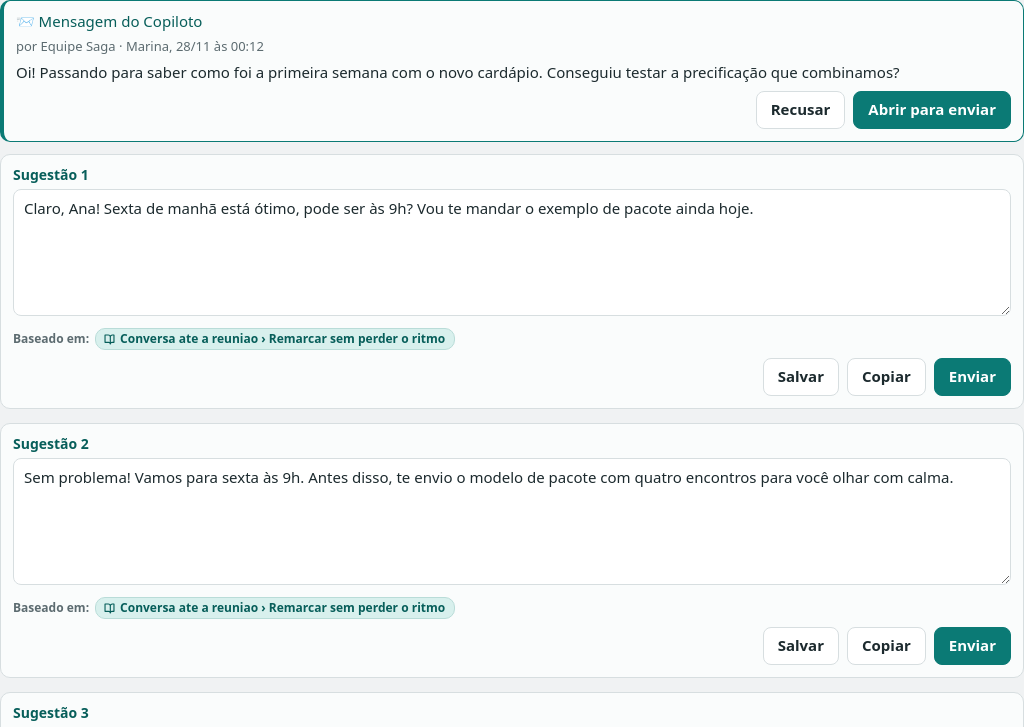
Test: Follow-up do Copiloto (v0.7.0) › fora dos 30 dias: "Abrir para enviar" mostra o motivo e não abre a caixa
Click the button "Abrir para enviar".
click(932, 110)  # box [853, 91, 1011, 129]
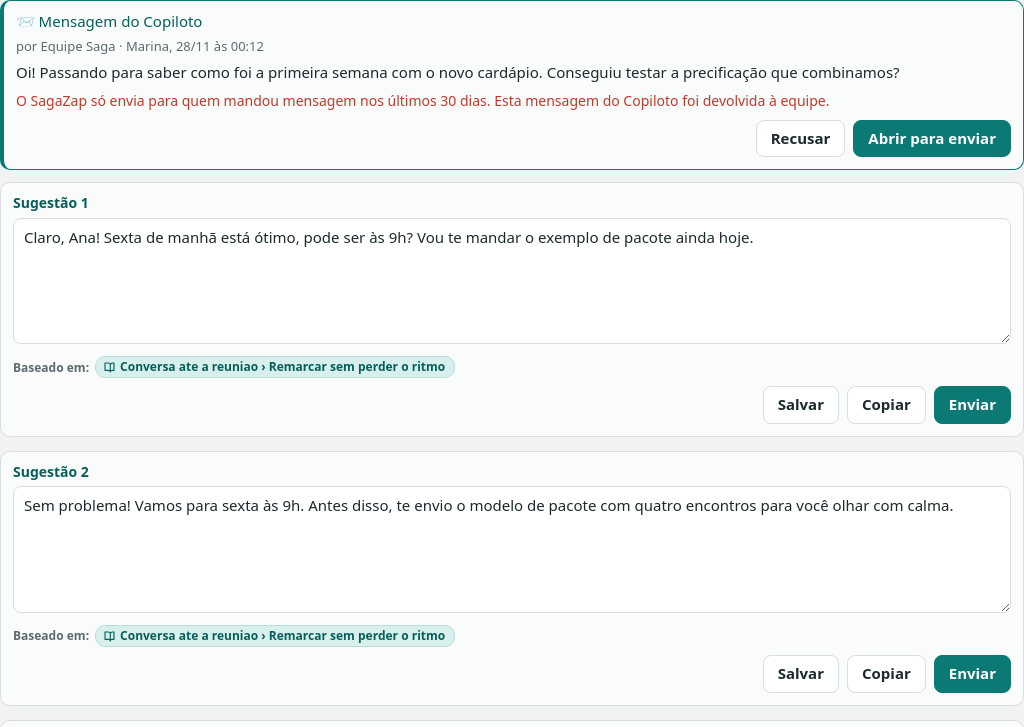
Expected: the message shows "O SagaZap só envia para quem mandou mensagem nos últimos 30 dias. Esta mensagem do Copiloto foi devolvida à equipe.", [16, 91, 830, 110]
